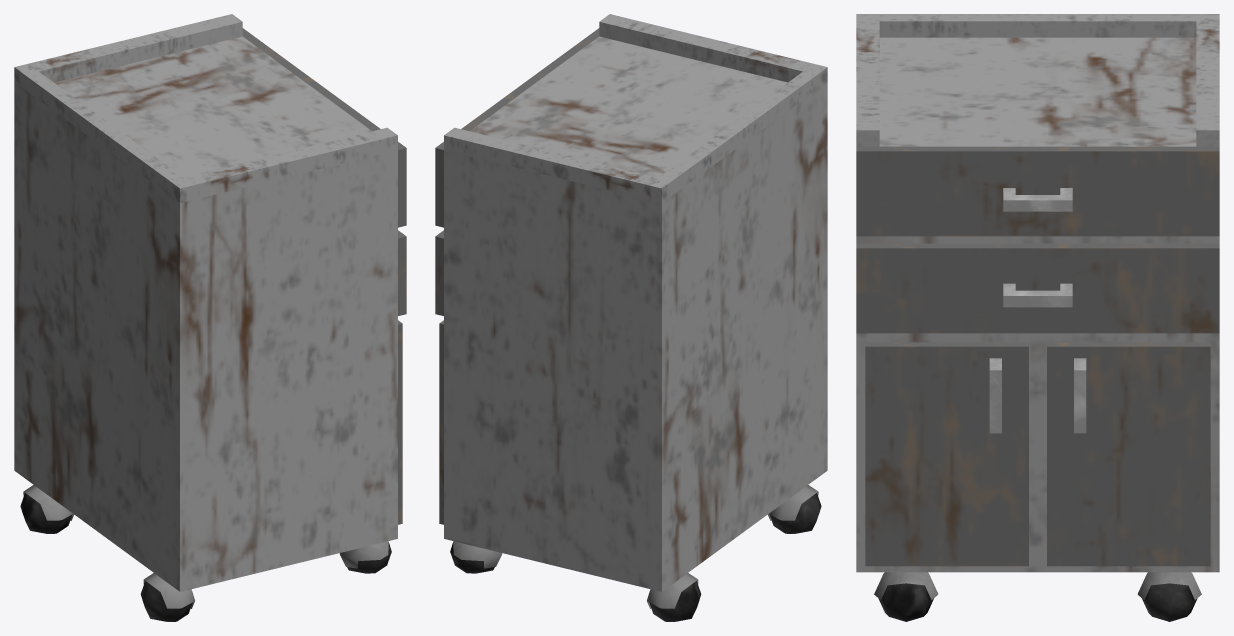
The model's file is Drawer.fbx.
3 renders of one model, left to right at view 1: azimuth 30°, elevation 25°; view 2: azimuth 150°, elevation 25°; view 3: azimuth 270°, elevation 25°, orthographic. The views are drawn at different scales.
Parts seen in each view (by area): view 1: Cube, Cube.001, Cube.002, Cube.004, Cube.005, Cube.003; view 2: Cube, Cube.001, Cube.002, Cube.004, Cube.005, Cube.003; view 3: Cube.003, Cube.002, Cube, Cube.001, Cube.004, Plane, Plane.001, Cube.005.
Boxes of the visible parts, box(x1,y1,x2,y2) form: Cube: box(14, 36, 397, 591); Cube.001: box(14, 14, 397, 202); Cube.002: box(242, 28, 406, 315); Cube.004: box(20, 493, 391, 621); Cube.005: box(23, 485, 388, 608); Cube.003: box(398, 320, 402, 524); Cube: box(444, 36, 827, 591); Cube.001: box(444, 14, 827, 202); Cube.002: box(435, 28, 599, 315); Cube.004: box(450, 493, 821, 621); Cube.005: box(453, 485, 818, 608); Cube.003: box(439, 320, 443, 524); Cube.003: box(865, 342, 1210, 566); Cube.002: box(856, 146, 1219, 333); Cube: box(856, 37, 1219, 572); Cube.001: box(856, 14, 1219, 146); Cube.004: box(878, 583, 1197, 621); Plane: box(1003, 188, 1072, 307); Plane.001: box(989, 358, 1086, 433); Cube.005: box(874, 572, 1201, 599).
Size of the model in its own units: 69.95 by 115 by 76.34.
Materials: 1 (1 with a texture image).
